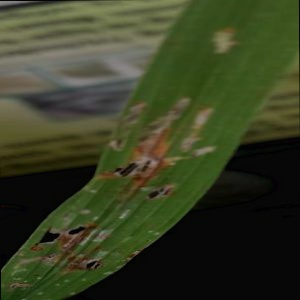Brown_Spot: (30, 211, 100, 258), (103, 94, 155, 155), (54, 247, 125, 284), (108, 154, 174, 187), (137, 174, 182, 209)
